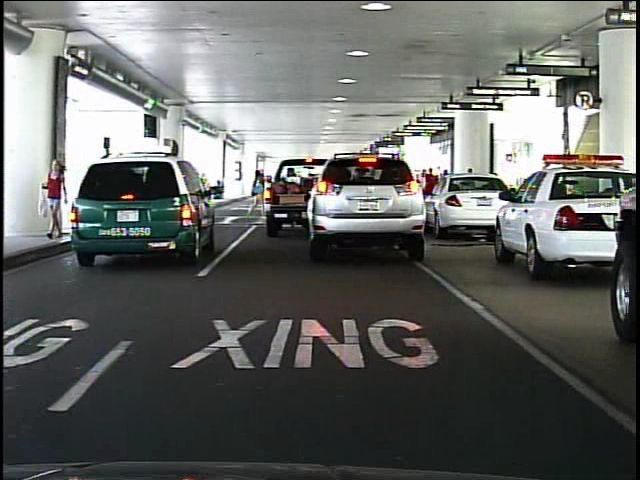person: (46, 153, 70, 241), (246, 168, 270, 224)
